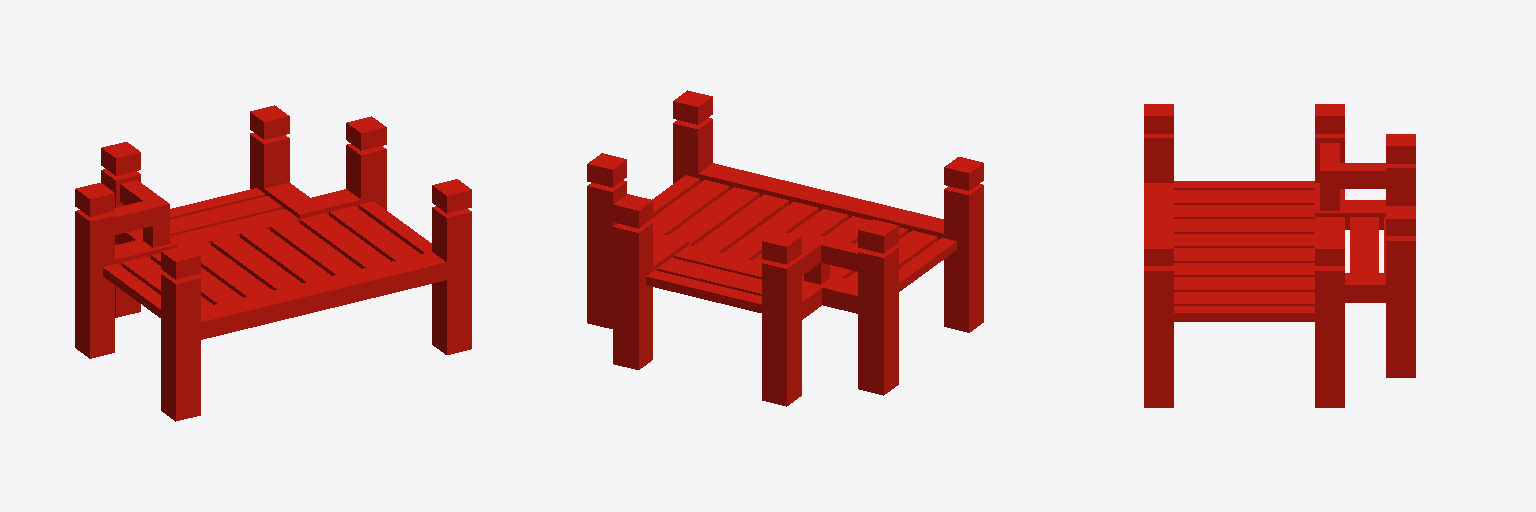
3 views of the same model, side by side, from view 1: azimuth 30°, elevation 25°; view 2: azimuth 150°, elevation 25°; view 3: azimuth 270°, elevation 25° (orthographic).
Parts seen in each view (by area): view 1: cube; view 2: cube; view 3: cube.
Part boxes in pixels (x1,y1,x2,y2): cube: (75, 105, 471, 421); cube: (587, 90, 983, 406); cube: (1144, 104, 1415, 407).
Bounding box in the file's own units: 1.09 × 0.5625 × 0.8672.
Materials: 1 (1 with a texture image).